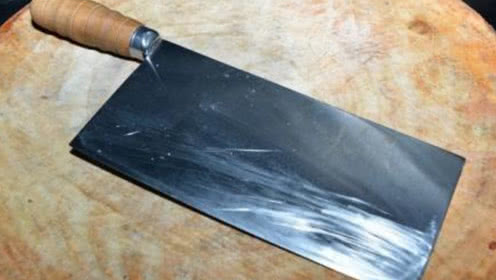knief: (61, 21, 464, 279)
